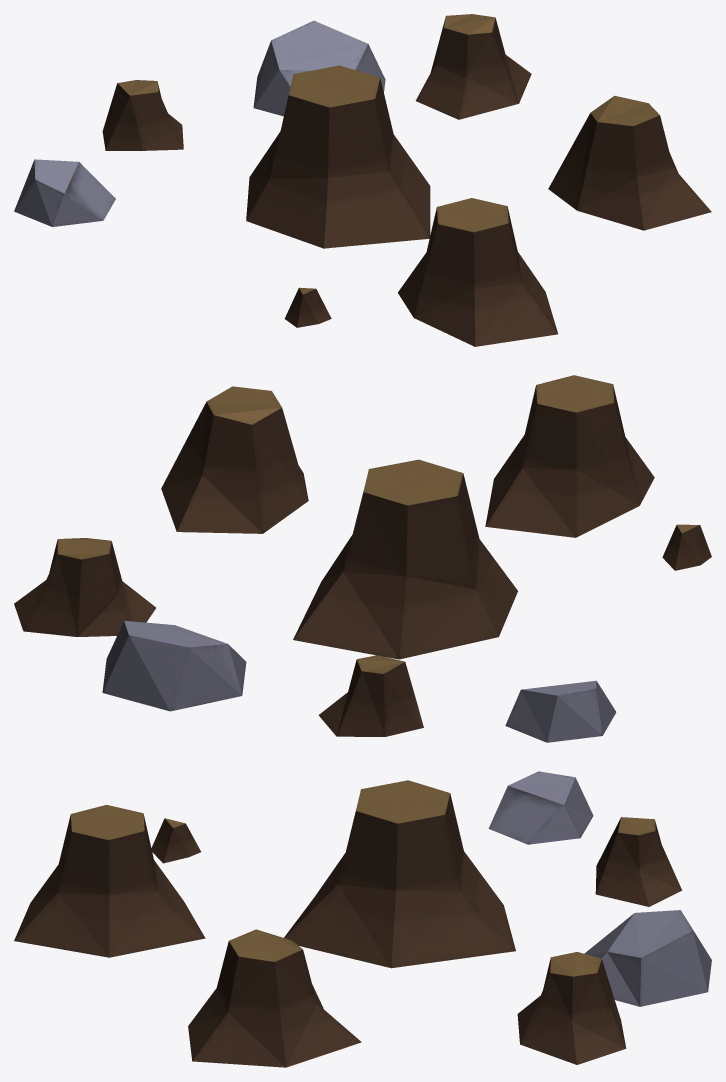
The model's file is tile_wood_3_ruin_lod1.fbx.
3 views of the same model, one above another, from view 1: azimuth 30°, elevation 25°; view 2: azimuth 150°, elevation 25°; view 3: azimuth 270°, elevation 25° (orthographic). The views are drawn at different scales.
Parts seen in each view (by area): view 1: wood_3_ruin_LOD1; view 2: wood_3_ruin_LOD1; view 3: wood_3_ruin_LOD1.
Boxes of the visible parts, x1,y1,x2,y2 form: wood_3_ruin_LOD1: [14, 14, 711, 346]; wood_3_ruin_LOD1: [14, 375, 711, 742]; wood_3_ruin_LOD1: [14, 771, 711, 1067].
Bounding box in the file's own units: 0.0294 × 0.00621 × 0.0322.
